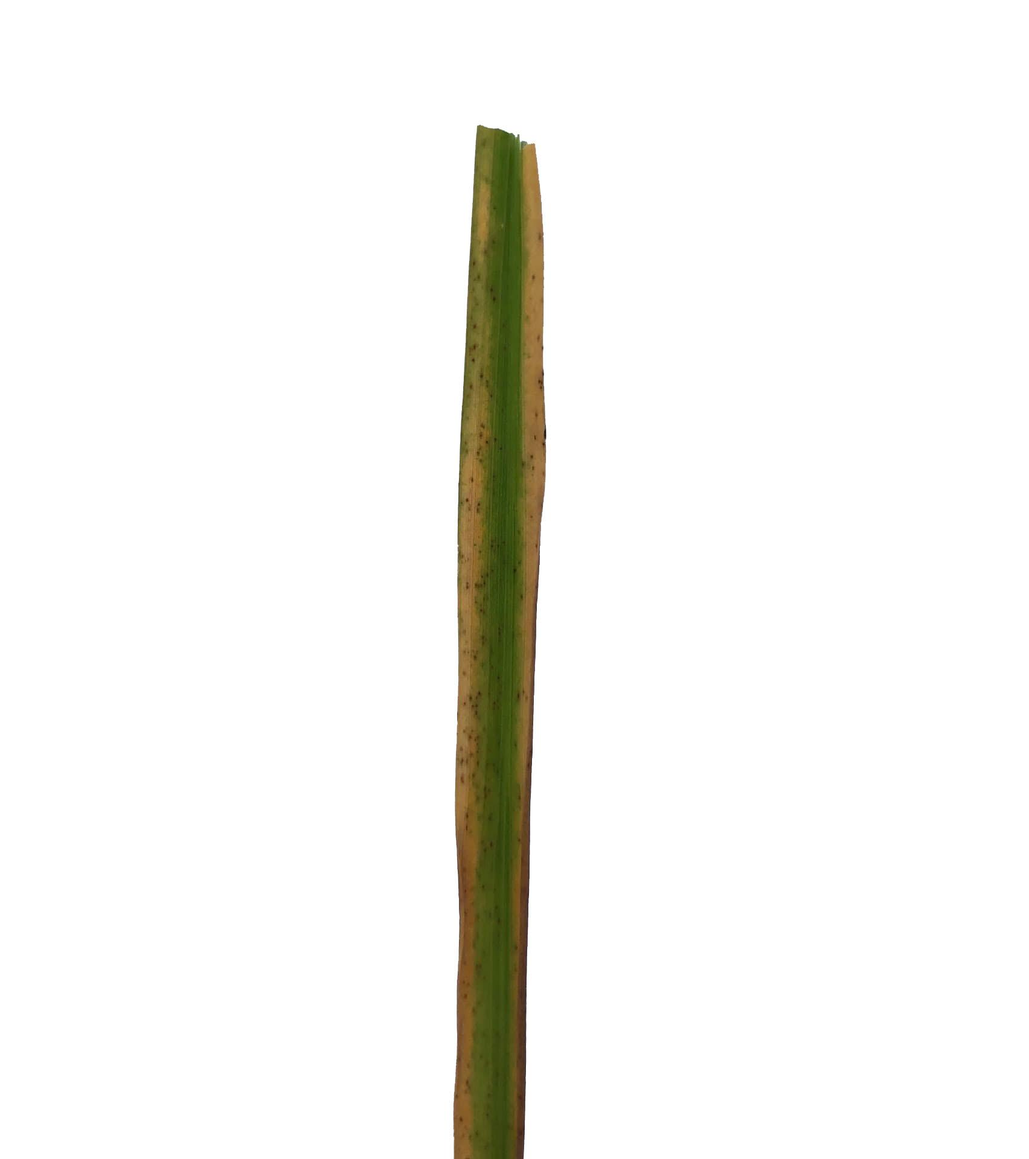Tungro: (452, 127, 548, 1159), (454, 358, 517, 797), (512, 195, 563, 625)
